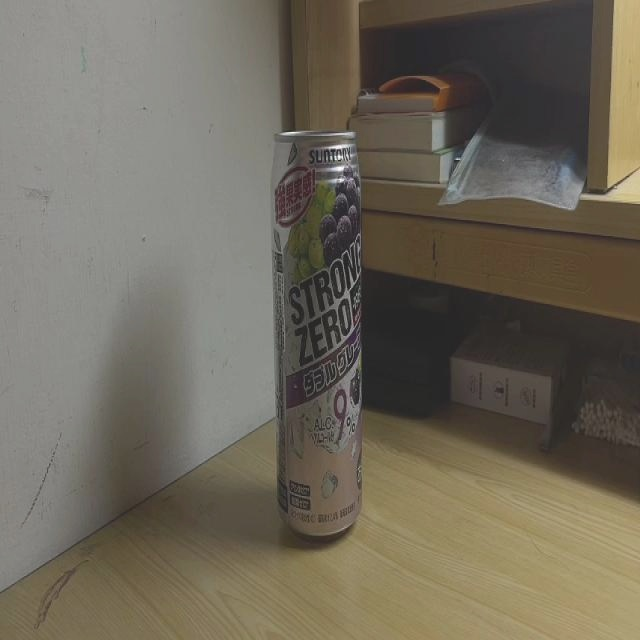Liquor: (271, 130, 362, 538)
